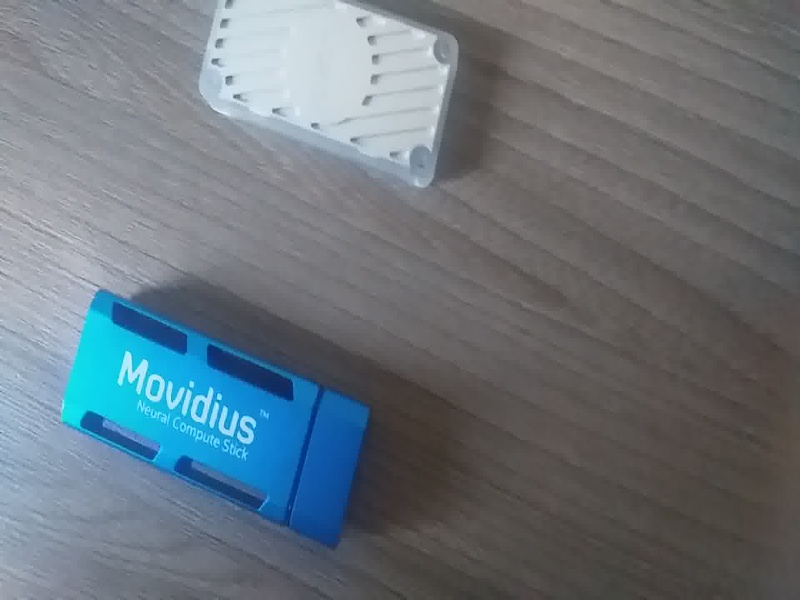coral: (194, 8, 474, 173)
movidius: (55, 283, 373, 548)
